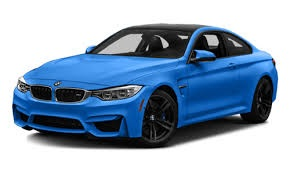bmw: (5, 19, 281, 149)
